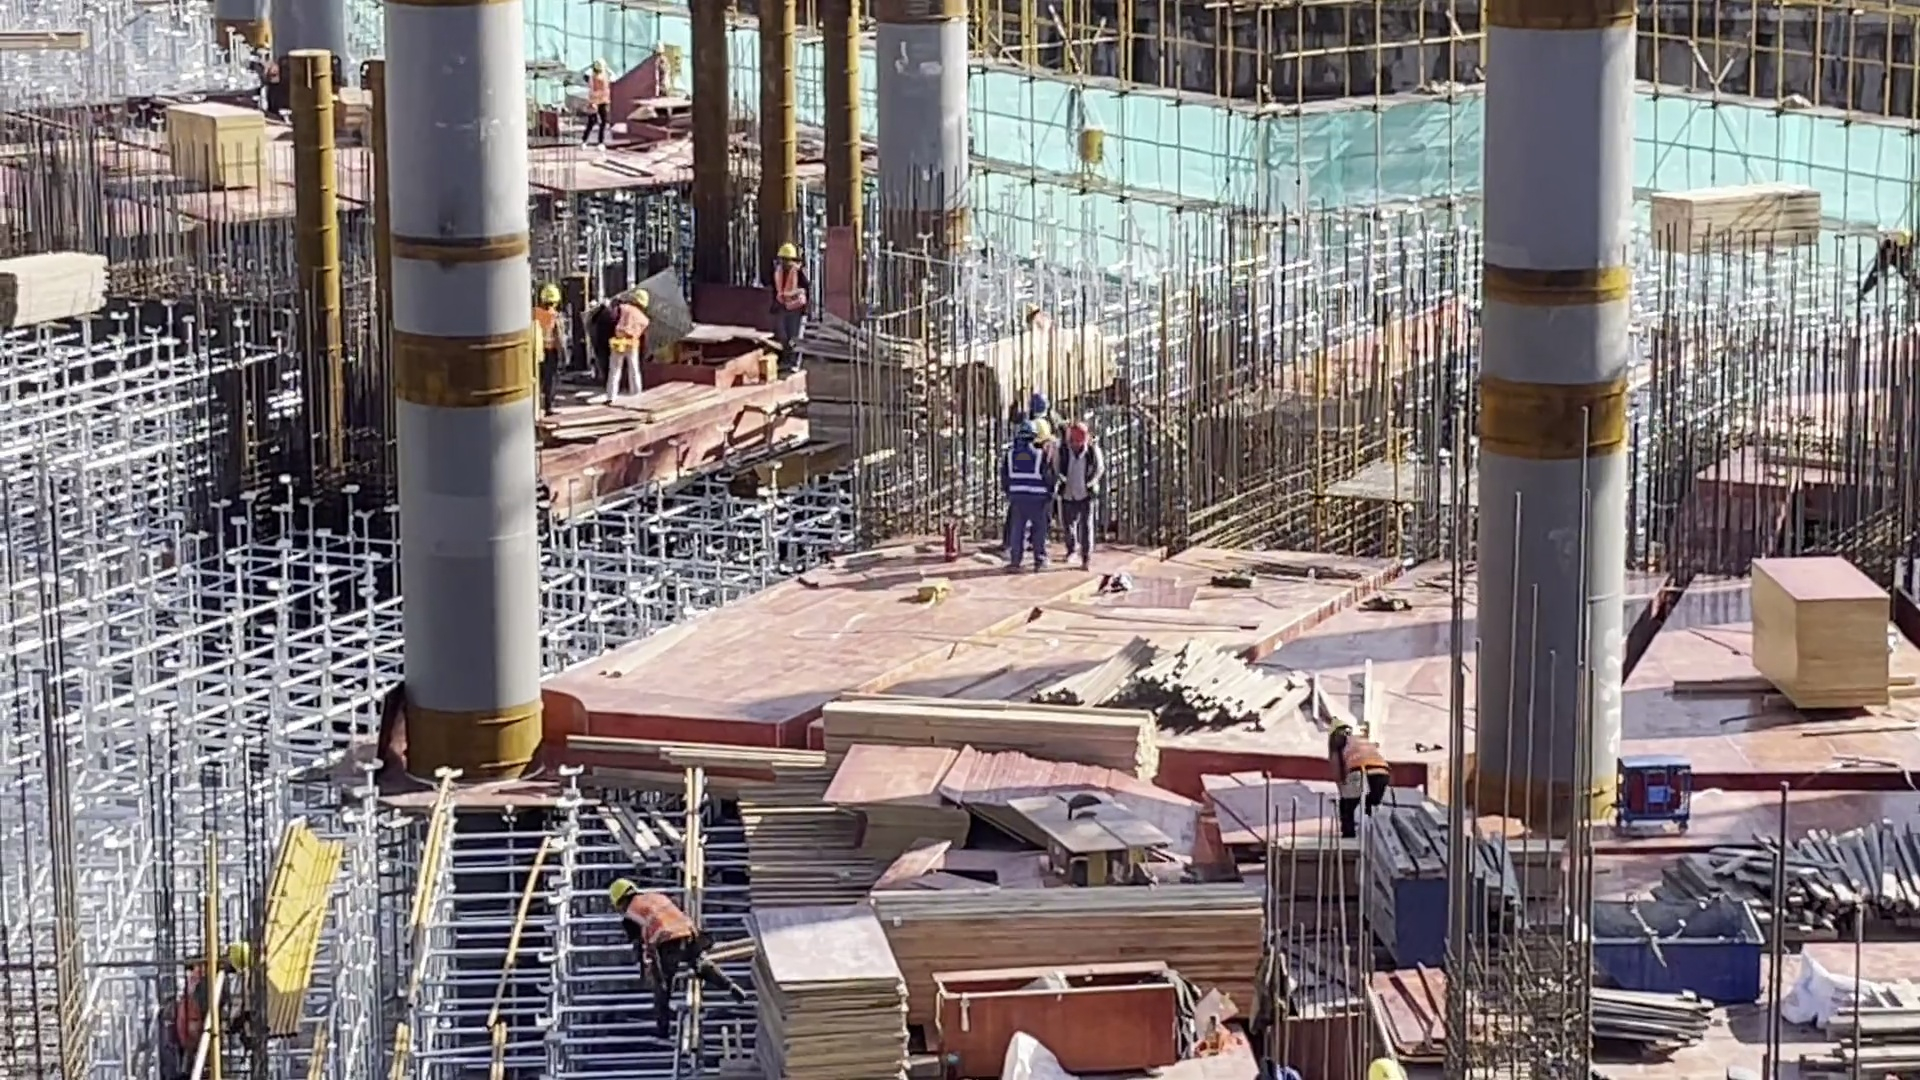board: (748, 910, 904, 1077), (1750, 553, 1892, 707), (836, 746, 972, 878), (160, 102, 272, 198), (1371, 956, 1457, 1064)
cutter: (1003, 784, 1182, 888), (667, 323, 777, 395)
ebox: (1075, 129, 1106, 187)
helmet: (603, 882, 632, 910), (1028, 418, 1054, 441), (609, 288, 638, 306), (1027, 391, 1051, 414), (774, 242, 801, 259), (539, 282, 560, 300), (1068, 424, 1089, 443)
hopper: (1589, 891, 1763, 1004)
person: (605, 875, 717, 1029), (1325, 715, 1395, 841), (1000, 424, 1058, 574), (1050, 419, 1103, 575), (1855, 224, 1918, 308), (610, 284, 646, 401), (533, 282, 562, 419), (772, 240, 811, 335), (585, 56, 611, 153), (1017, 390, 1062, 432), (650, 50, 671, 120)
vest: (624, 891, 695, 954), (1004, 446, 1046, 503), (1342, 736, 1392, 782), (1060, 444, 1099, 501), (768, 265, 808, 308), (612, 305, 644, 351), (590, 78, 612, 108)
wood: (1624, 820, 1920, 939), (874, 888, 1266, 973), (823, 695, 1165, 784), (1011, 641, 1319, 734), (791, 330, 932, 462), (946, 327, 1114, 420), (1648, 181, 1828, 251), (1798, 980, 1920, 1080), (1, 250, 111, 327)
